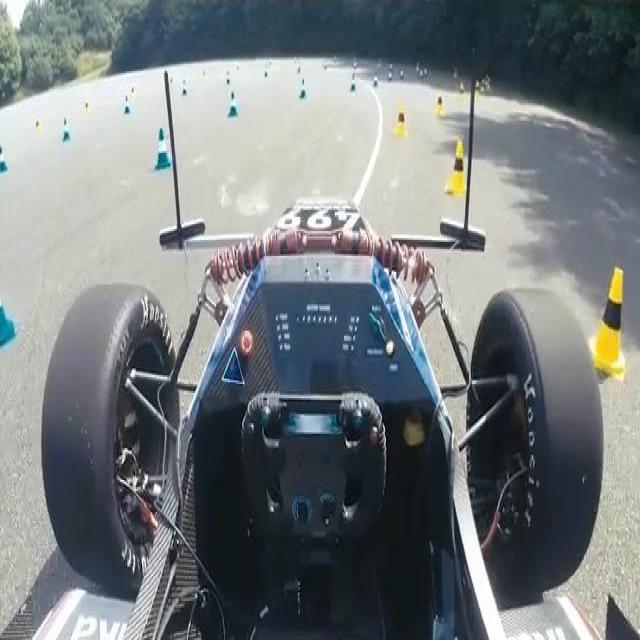blue_cone: (0, 286, 20, 354), (155, 128, 176, 180), (227, 91, 241, 121), (387, 66, 404, 89), (298, 78, 310, 110), (346, 70, 360, 90), (371, 68, 382, 90)
yellow_cone: (586, 258, 629, 379), (443, 135, 472, 196), (392, 101, 410, 153), (434, 91, 448, 125), (458, 80, 467, 99)
